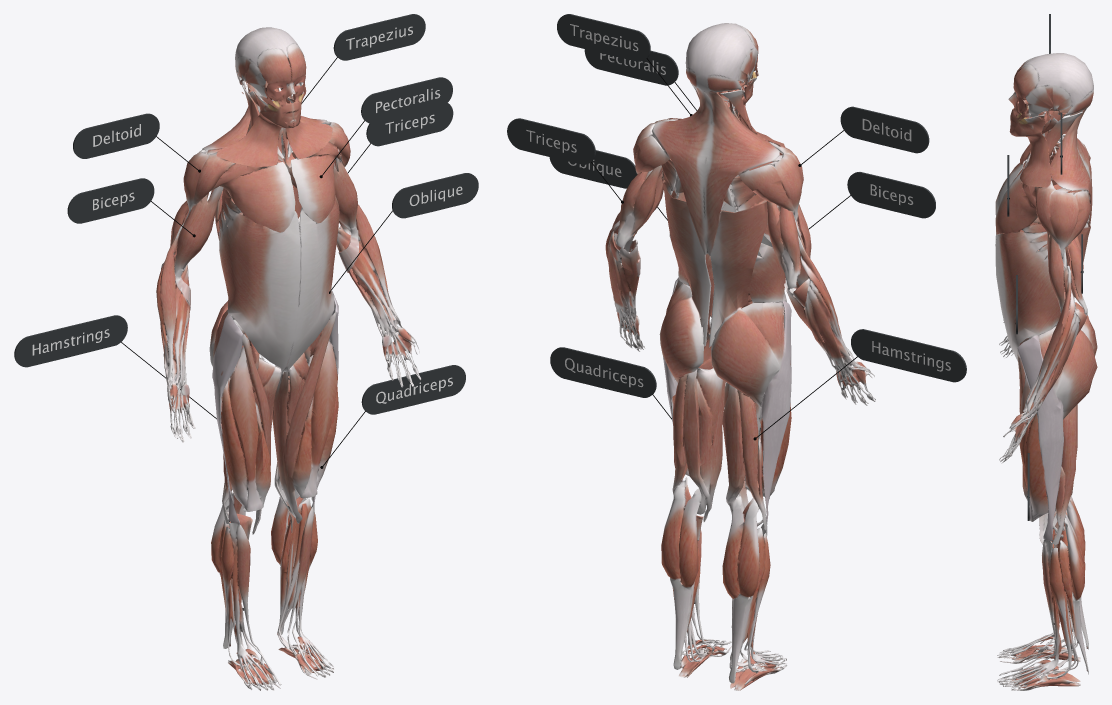
The model's file is muscleSystem.glb.
3 views of the same model, side by side, from view 1: azimuth 30°, elevation 25°; view 2: azimuth 150°, elevation 25°; view 3: azimuth 270°, elevation 25° (orthographic). The views are drawn at different scales.
Visible parts, largest first — view 1: musclev3, LabelGroup2; view 2: musclev3, LabelGroup2; view 3: musclev3, LabelGroup2.
Part boxes in pixels (bbox=[...]): musclev3: bbox=[156, 27, 420, 690]; LabelGroup2: bbox=[14, 14, 478, 468]; musclev3: bbox=[605, 23, 875, 690]; LabelGroup2: bbox=[507, 14, 966, 440]; musclev3: bbox=[995, 53, 1097, 690]; LabelGroup2: bbox=[1007, 14, 1083, 520].
Size of the model in its own units: 1.31 by 1.79 by 0.2678.
4 materials, 1 textured.
